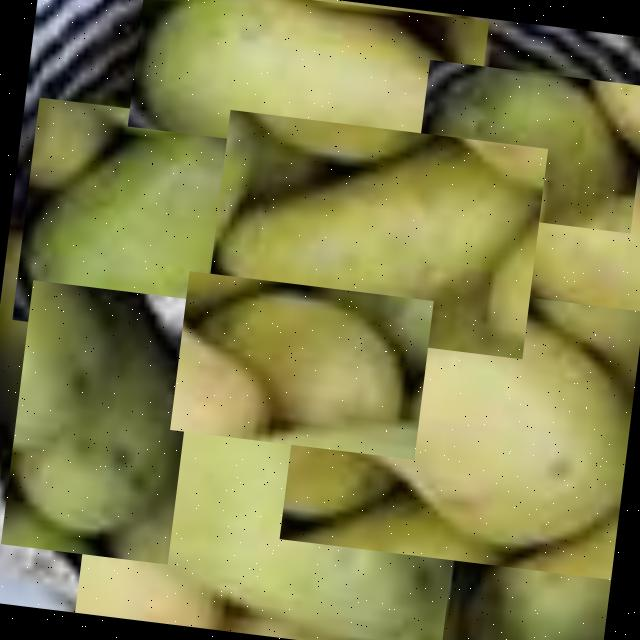Defected potato: (279, 270, 640, 579), (74, 382, 468, 640), (205, 110, 548, 358), (12, 97, 281, 349), (127, 0, 488, 168), (1, 280, 200, 564), (170, 270, 433, 460), (466, 124, 640, 383), (411, 59, 640, 233)
